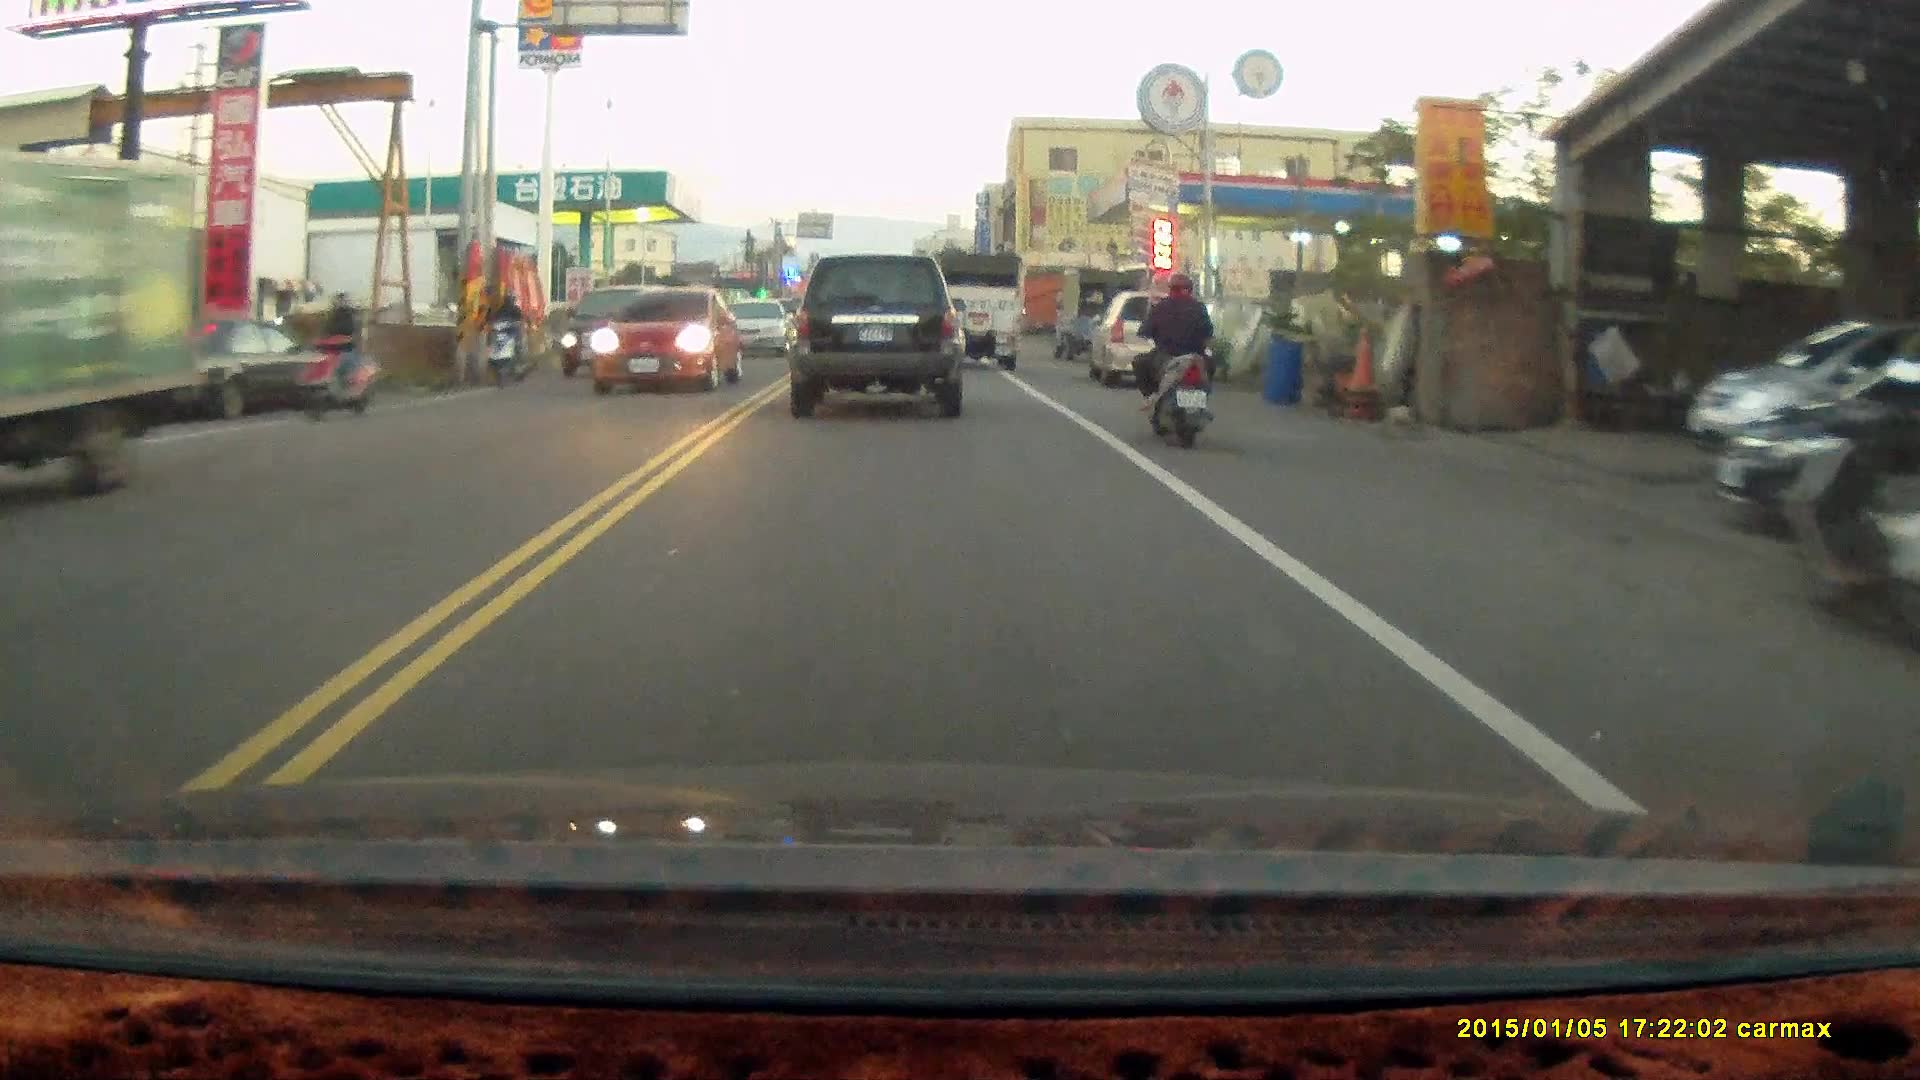rider: (1131, 266, 1226, 447), (288, 288, 381, 421), (477, 289, 529, 385)
vehicle: (1, 146, 219, 511), (786, 251, 967, 418), (133, 318, 363, 422), (594, 284, 749, 395), (1089, 287, 1214, 384), (930, 249, 1021, 370), (560, 284, 673, 377), (710, 296, 798, 353)
